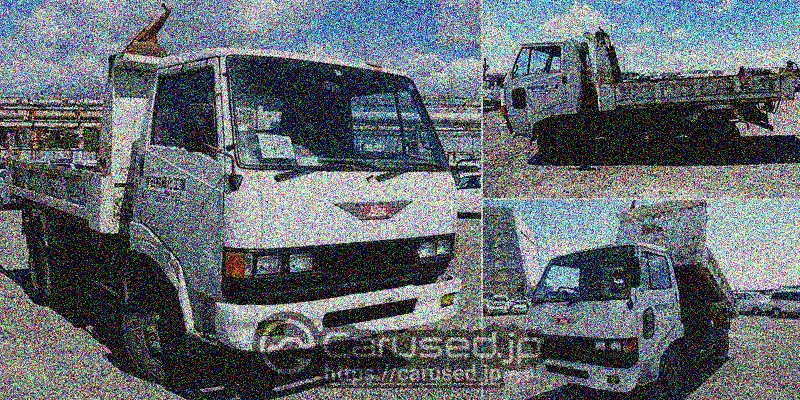truck: (0, 40, 454, 389), (498, 1, 800, 166), (517, 199, 745, 398)
